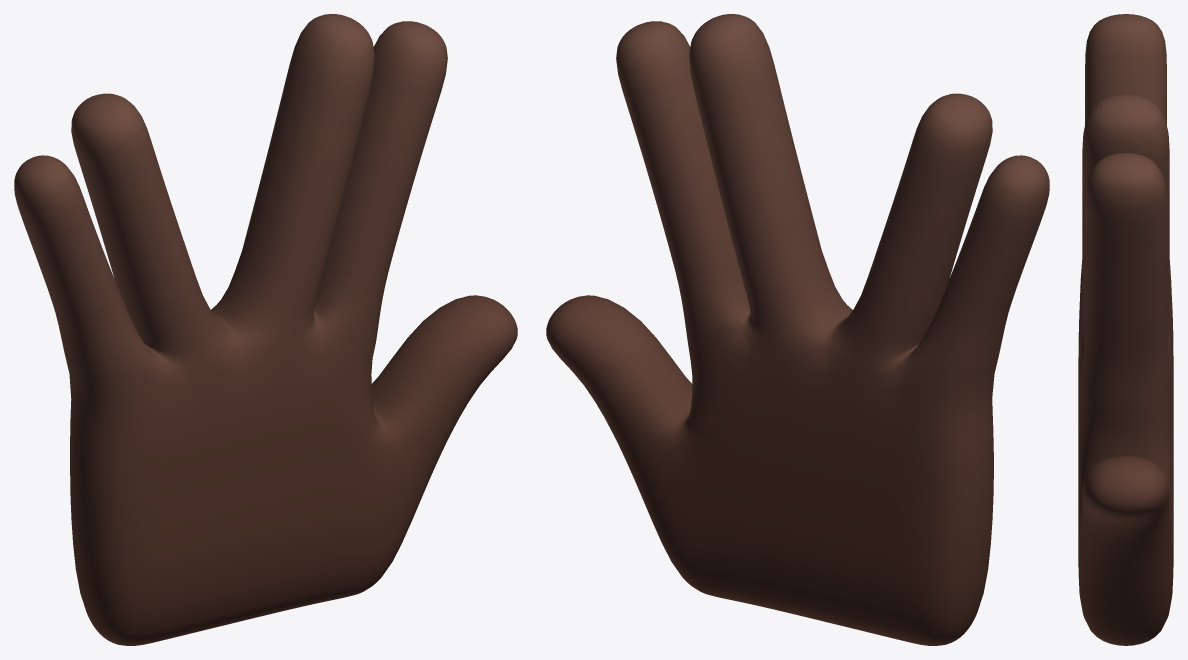
The model's file is vulcan_salute.glb.
The picture shows the model from 3 angles, left to right: view 1: azimuth 30°, elevation 25°; view 2: azimuth 150°, elevation 25°; view 3: azimuth 270°, elevation 25°; orthographic projection. The views are drawn at different scales.
Visible parts, largest first — view 1: Cube.084; view 2: Cube.084; view 3: Cube.084.
Part boxes in pixels (x1,y1,x2,y2): Cube.084: [14, 14, 517, 645]; Cube.084: [546, 14, 1049, 645]; Cube.084: [1078, 14, 1173, 645].
Size of the model in its own units: 1.86 by 2.08 by 0.3301.
Materials: 2 (2 with a texture image).
